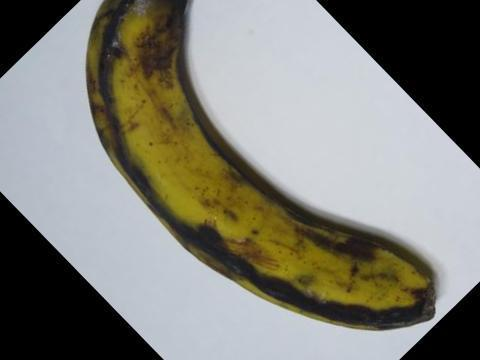overripe: (56, 0, 449, 335)
